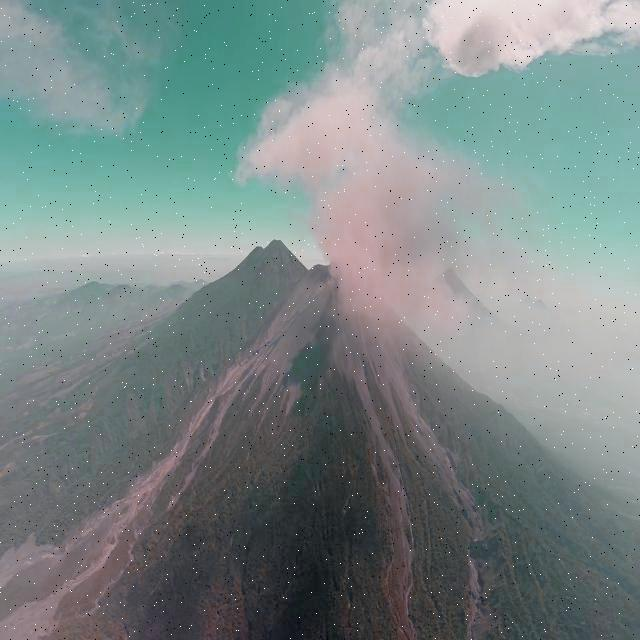Plume: (237, 64, 509, 341), (4, 0, 175, 147), (415, 0, 638, 77)
